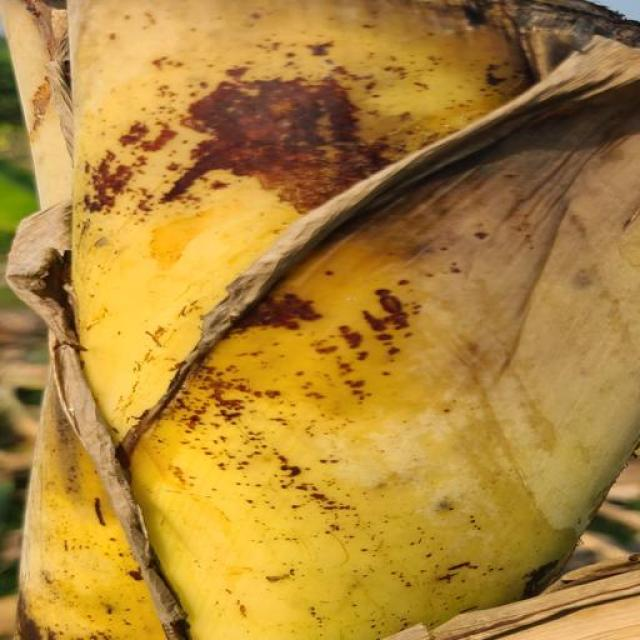Anthracnose: (29, 3, 640, 632)
